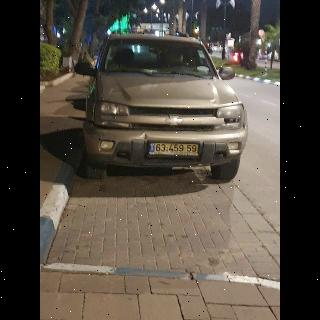LicensePlate: (156, 144, 199, 153)
